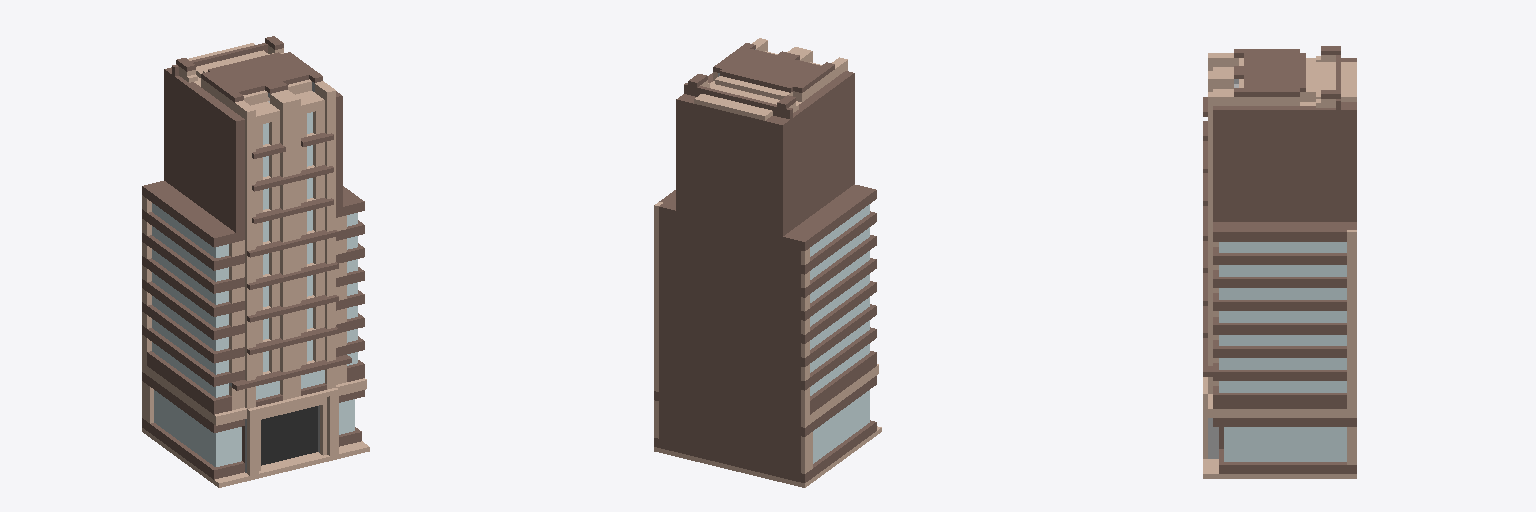
The picture shows the model from 3 angles: view 1: azimuth 30°, elevation 25°; view 2: azimuth 150°, elevation 25°; view 3: azimuth 270°, elevation 25°; orthographic projection.
Bounding box in the file's own units: 34 × 80 × 30.
1 materials, 1 textured.